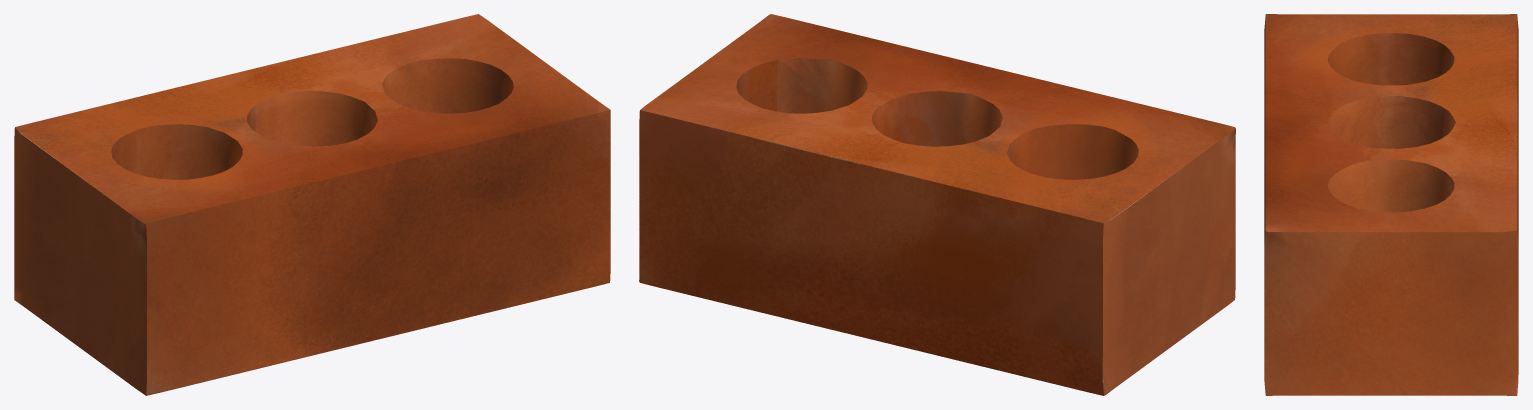
Rendered from asset.glb.
The picture shows the model from 3 angles, left to right: view 1: azimuth 30°, elevation 25°; view 2: azimuth 150°, elevation 25°; view 3: azimuth 270°, elevation 25°; orthographic projection. The views are drawn at different scales.
Visible parts, largest first — view 1: Project_3; view 2: Project_3; view 3: Project_3.
Boxes of the visible parts, x1=… form: Project_3: x1=14, y1=14, x2=610, y2=395; Project_3: x1=639, y1=14, x2=1235, y2=395; Project_3: x1=1264, y1=14, x2=1518, y2=395.
Size of the model in its own units: 1.09 by 0.3864 by 0.5378.
1 material, 1 textured.
